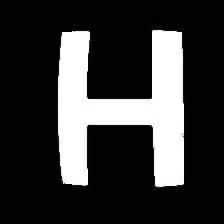LTR_H: (42, 13, 196, 191)
